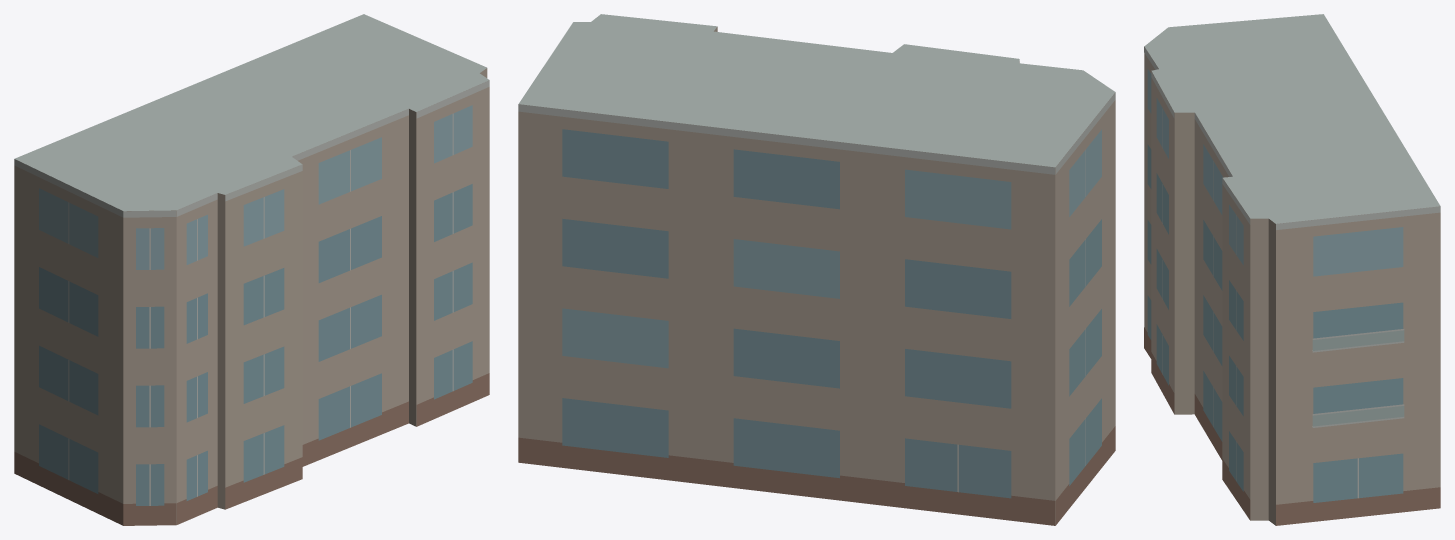
File: survey-upis-32637039.glb
The picture shows the model from 3 angles, left to right: view 1: azimuth 30°, elevation 25°; view 2: azimuth 150°, elevation 25°; view 3: azimuth 270°, elevation 25°; orthographic projection. The views are drawn at different scales.
Parts seen in each view (by area): view 1: survey-upis-32637039.tmp; view 2: survey-upis-32637039.tmp; view 3: survey-upis-32637039.tmp.
Part boxes in pixels (left/top/right/bottom): survey-upis-32637039.tmp: left=14, top=14, right=489, bottom=525; survey-upis-32637039.tmp: left=518, top=14, right=1115, bottom=525; survey-upis-32637039.tmp: left=1144, top=14, right=1440, bottom=525.
Bounding box in the file's own units: 17.45 × 11.7 × 10.42.
